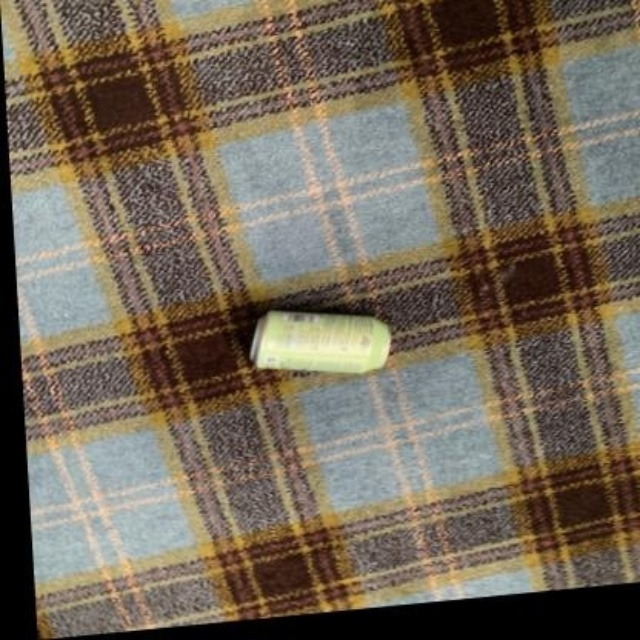trash: (251, 311, 389, 372)
